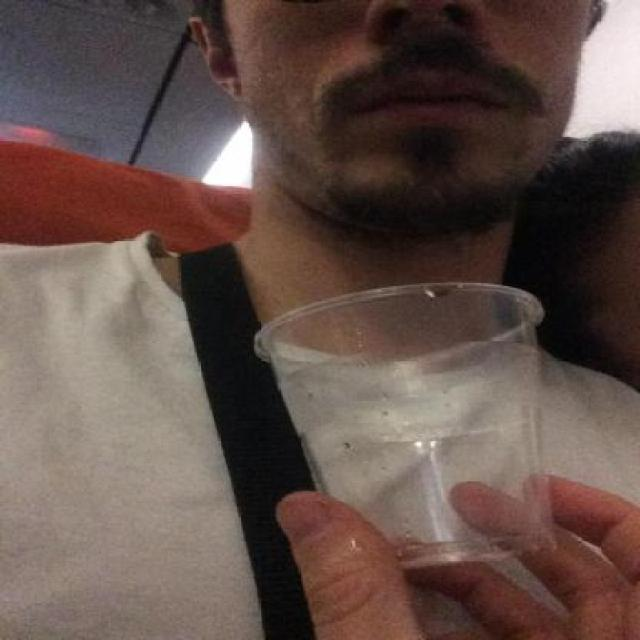plastic: (249, 280, 556, 568)
